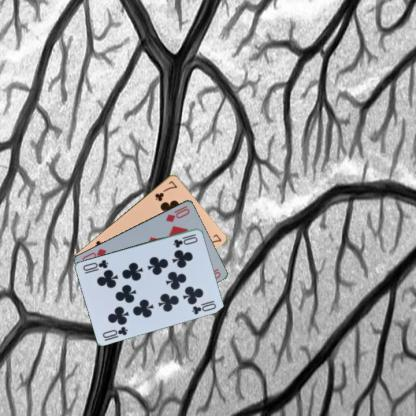10c: (170, 231, 199, 249), (100, 324, 129, 339)
10d: (163, 203, 191, 223)
7c: (152, 178, 178, 202)
